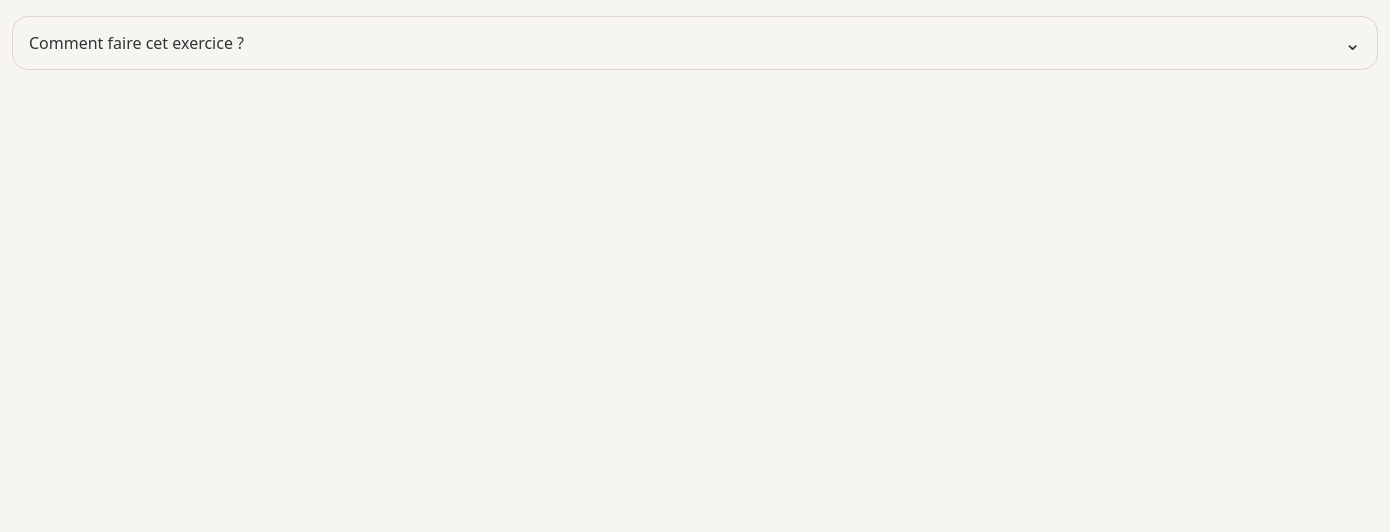
it: HowToAccordion › shows every section once opened, when the exercise has full data
Click the button "Comment faire cet exercice ? ⌄" at x=137, y=43, box [13, 17, 1377, 69]
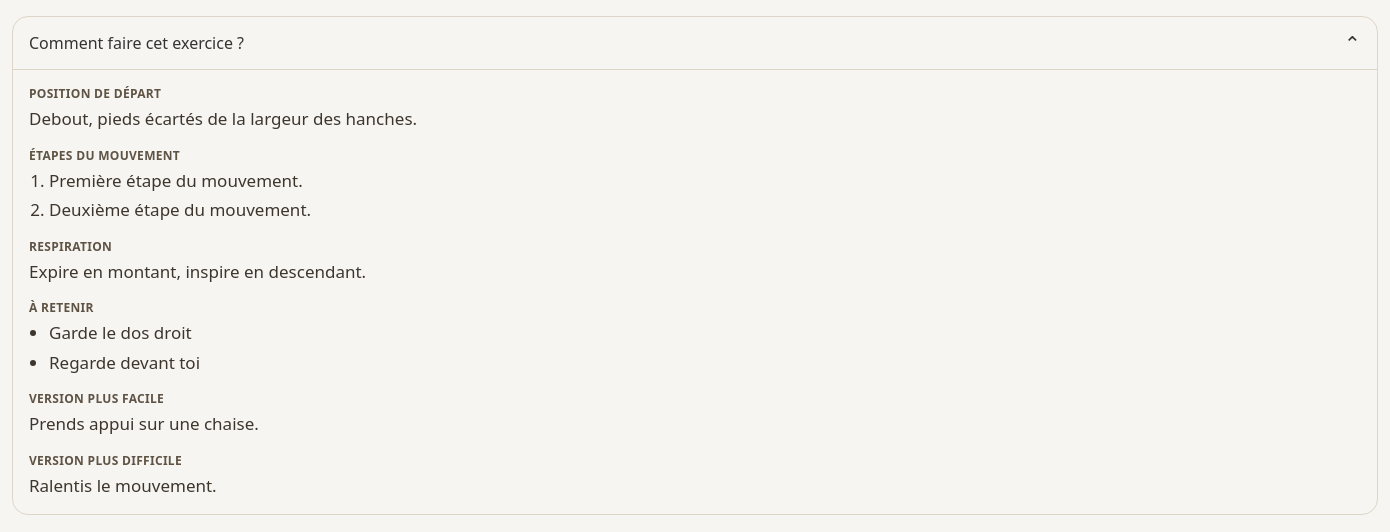
Check: the heading "Position de départ" is shown, box [29, 85, 161, 102]
Check: the text "Debout, pieds écartés de la largeur des hanches." is shown, box [29, 107, 417, 130]
Check: the list item "Première étape du mouvement." is shown, box [49, 168, 303, 192]
